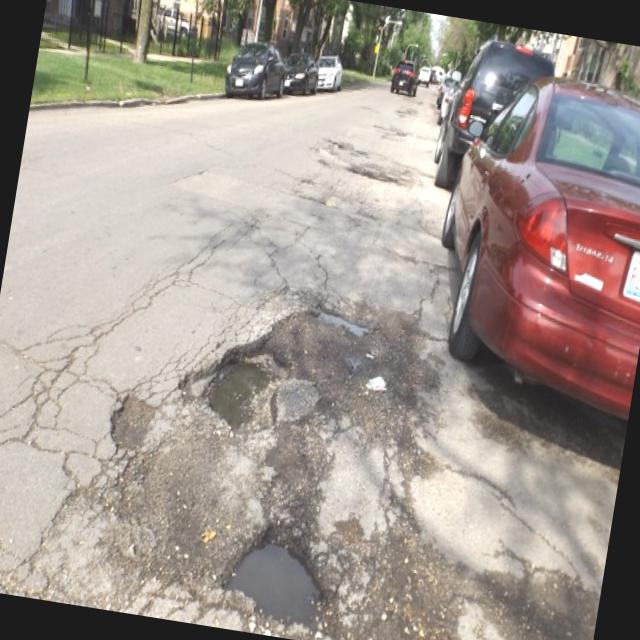bad-road: (168, 329, 299, 446), (217, 514, 340, 631), (105, 390, 159, 458), (308, 304, 381, 343), (344, 162, 401, 185)
